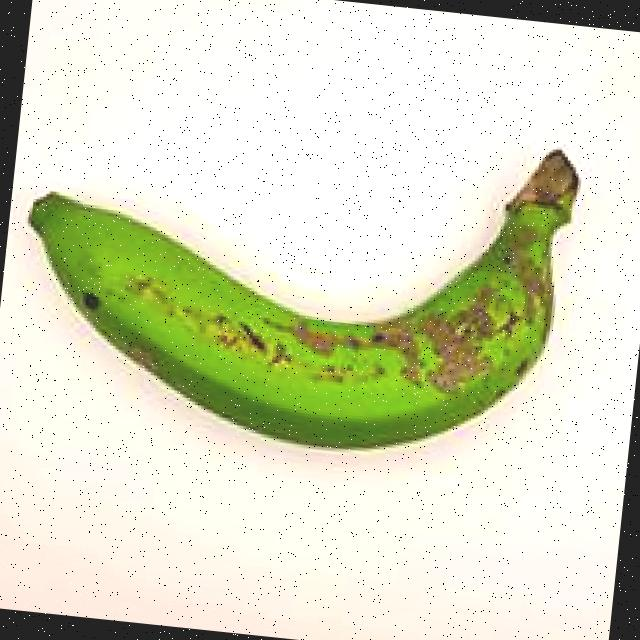Raw: (0, 81, 595, 485)
